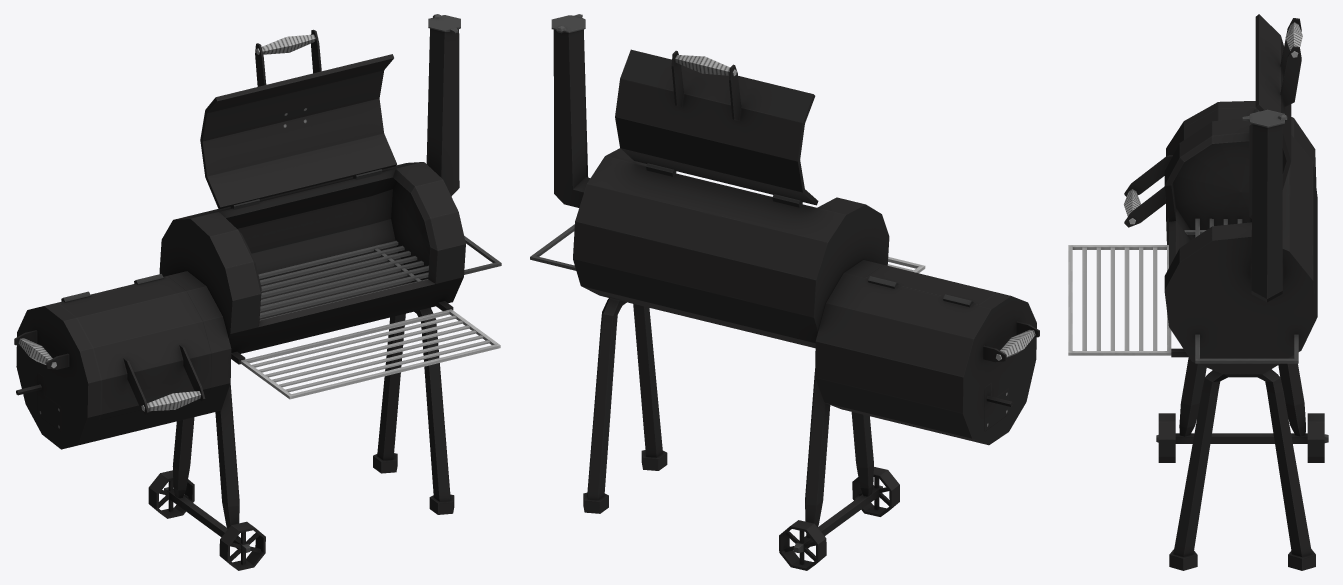
The model's file is 83378b8d-d8a0-47e8-b047-0efec45415e2.glb.
The picture shows the model from 3 angles, left to right: view 1: azimuth 30°, elevation 25°; view 2: azimuth 150°, elevation 25°; view 3: azimuth 270°, elevation 25°; orthographic projection. The views are drawn at different scales.
Parts seen in each view (by area): view 1: BBQGrill_Mesh; view 2: BBQGrill_Mesh; view 3: BBQGrill_Mesh.
Part boxes in pixels (x1,y1,x2,y2): BBQGrill_Mesh: (14, 14, 501, 570); BBQGrill_Mesh: (530, 14, 1039, 570); BBQGrill_Mesh: (1068, 14, 1328, 570).
Size of the model in its own units: 5.11 by 4.98 by 2.44.
1 material, 1 textured.
